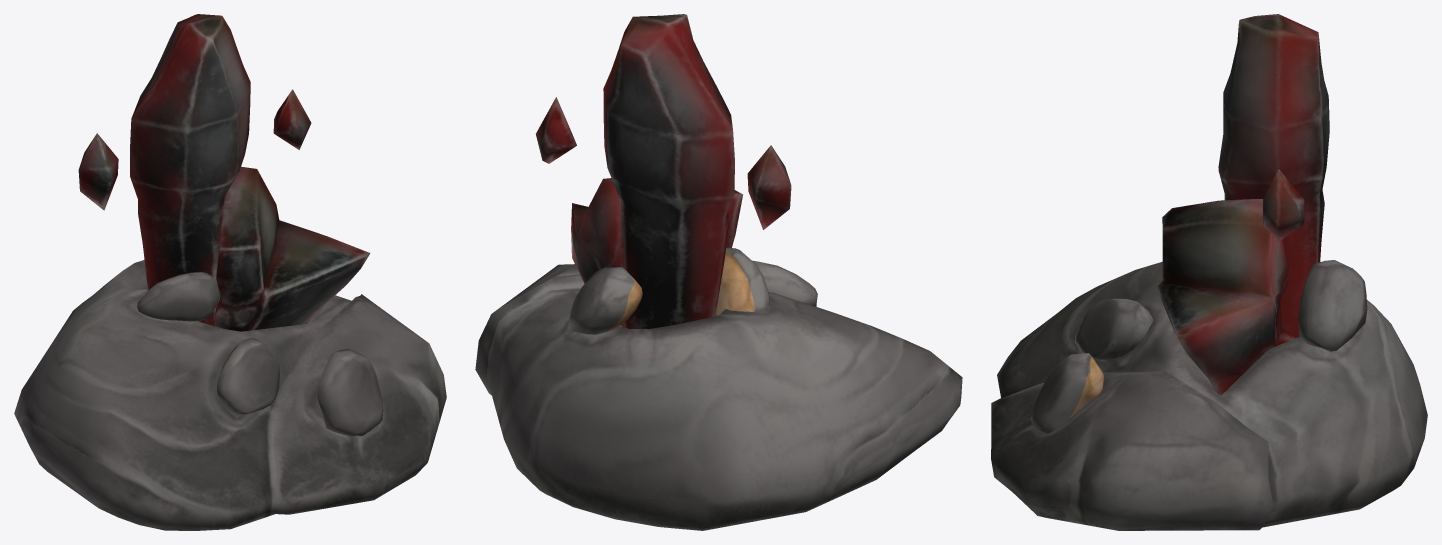
Rendered from Iron_Deposit_low.glb.
3 renders of one model, left to right at view 1: azimuth 30°, elevation 25°; view 2: azimuth 150°, elevation 25°; view 3: azimuth 270°, elevation 25°, orthographic. The views are drawn at different scales.
Parts seen in each view (by area): view 1: Iron_Deposit_low; view 2: Iron_Deposit_low; view 3: Iron_Deposit_low.
Boxes of the visible parts, x1,y1,x2,y2 form: Iron_Deposit_low: [14, 14, 446, 530]; Iron_Deposit_low: [475, 14, 962, 530]; Iron_Deposit_low: [991, 14, 1427, 530].
Size of the model in its own units: 0.2801 by 0.3003 by 0.2669.
Materials: 1 (1 with a texture image).
